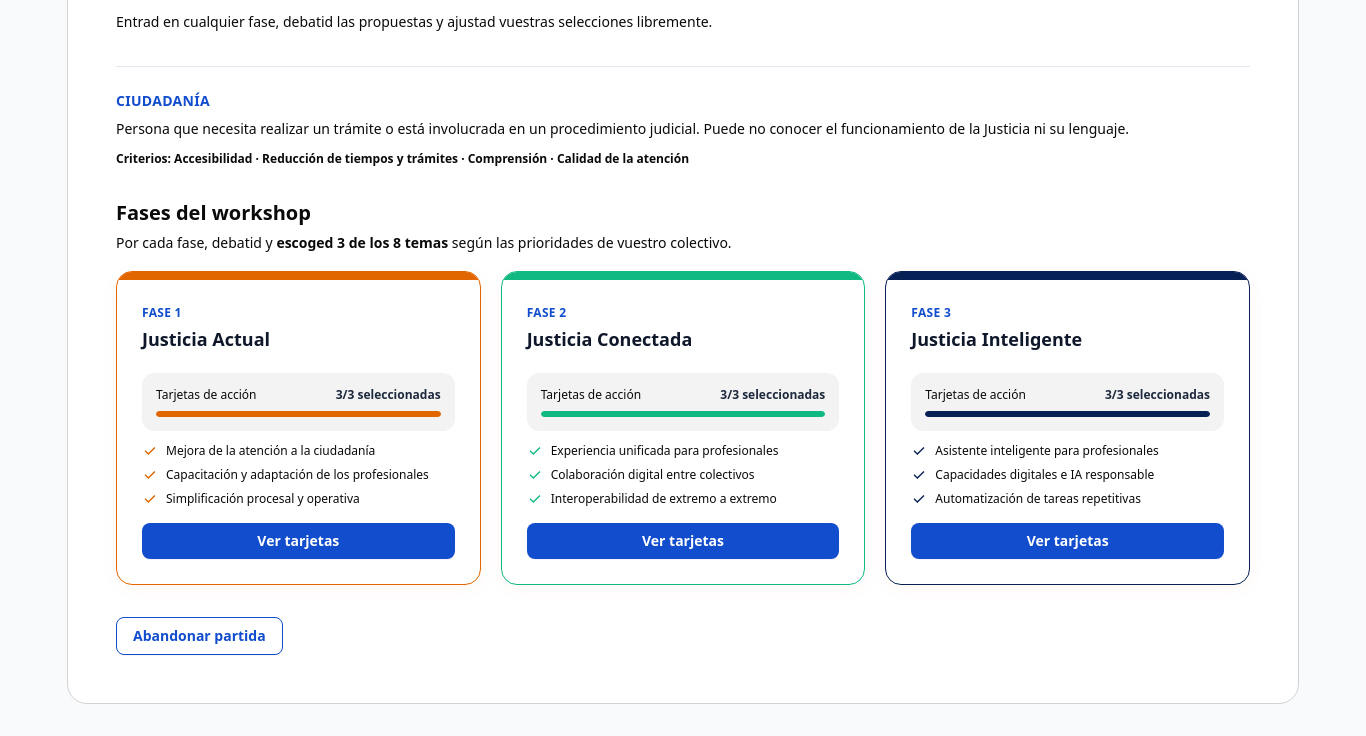
Test: componentes principales › muestra tarjetas de fase sin controles de envío
(page scrolled)
Expected: the number of links "Ver tarjetas" is 3, top-left (142, 523), bottom-right (455, 559); top-left (527, 523), bottom-right (839, 559); top-left (911, 523), bottom-right (1224, 559)
Expected: the heading "Fases del workshop" is shown, top-left (116, 199), bottom-right (311, 226)
Click the button "Abandonar partida": [199, 636] box top-left (116, 617), bottom-right (283, 655)
(page scrolled)
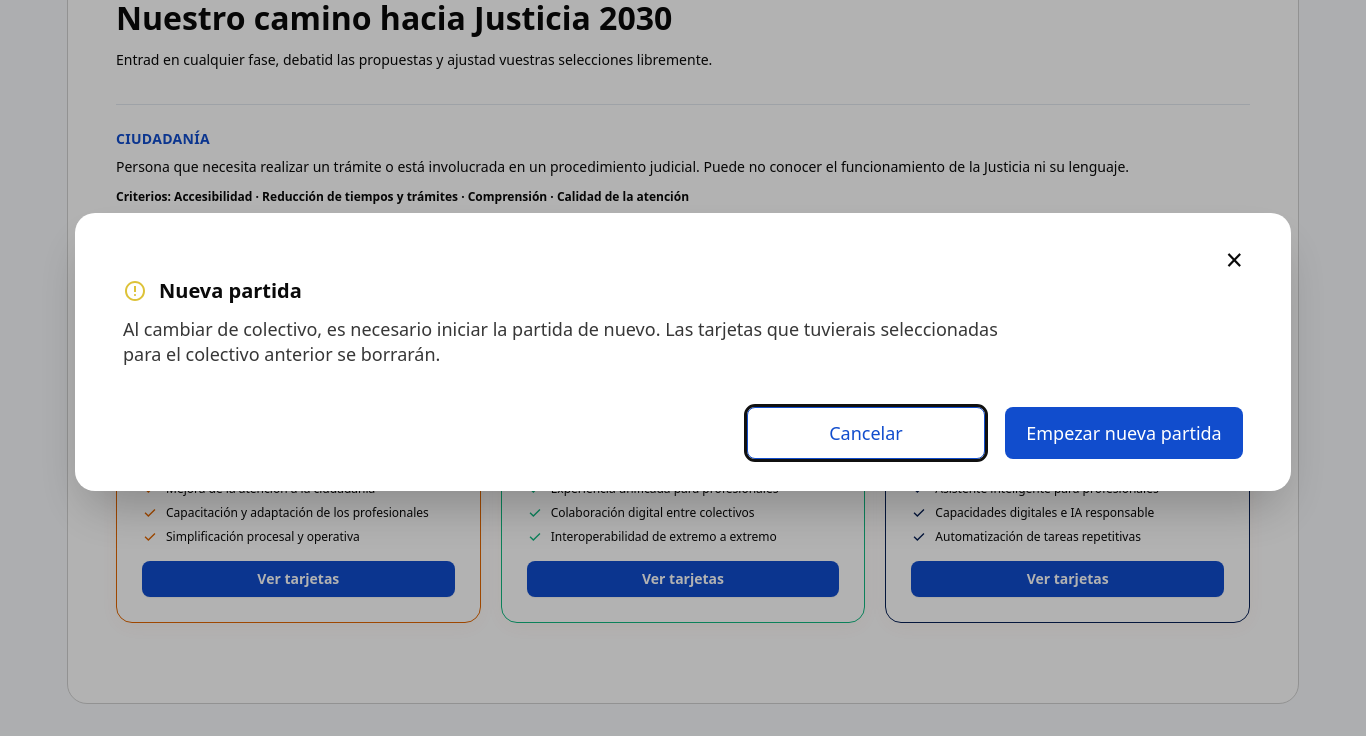
Expected: the dialog "Nueva partida" is shown, top-left (75, 213), bottom-right (1291, 491)
Expected: the button "Empezar nueva partida" is shown, top-left (1005, 407), bottom-right (1243, 459)
